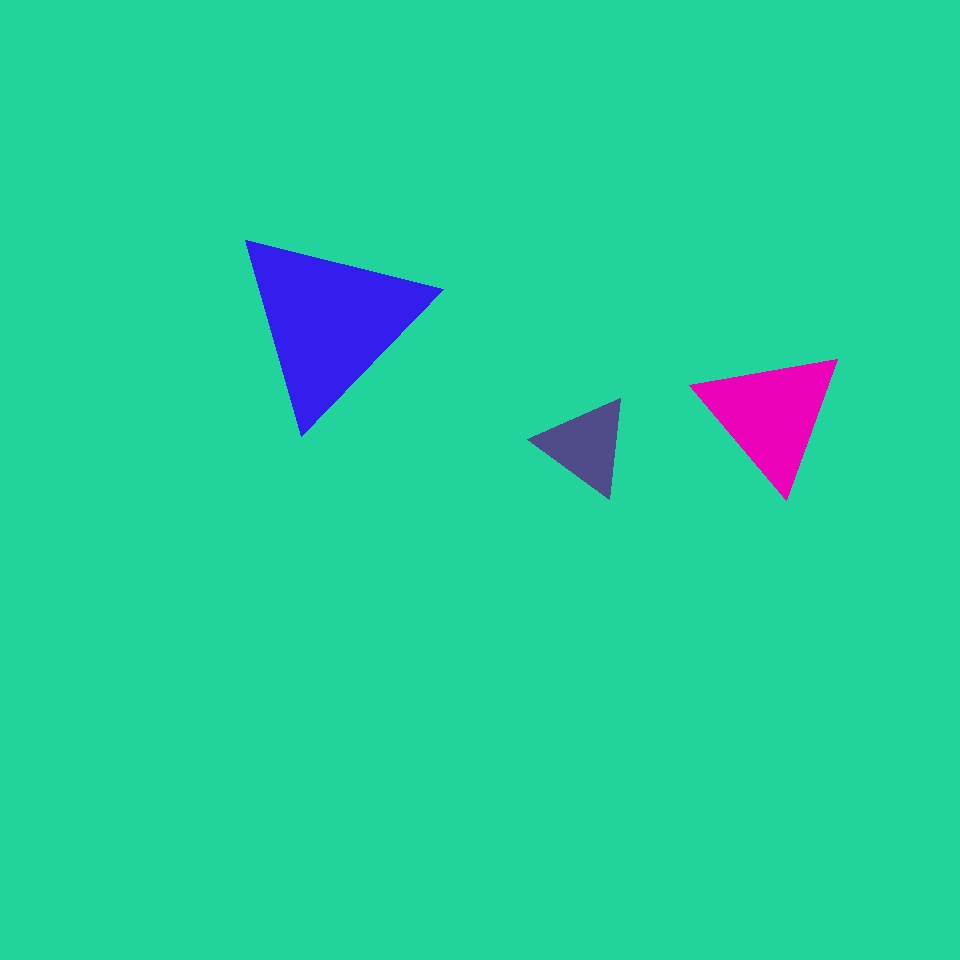circle: (197, 136, 517, 432), (597, 261, 812, 449), (231, 224, 429, 420), (697, 344, 845, 486), (540, 396, 633, 496), (267, 319, 351, 407)
square: (266, 742, 433, 909), (304, 752, 460, 907)
